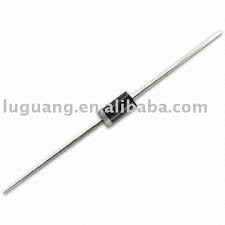diode: (71, 62, 150, 143)
